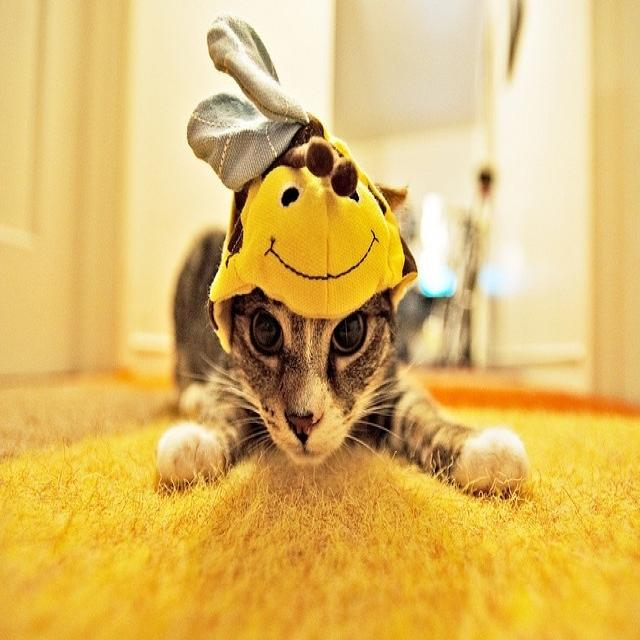cat: (157, 15, 528, 494)
